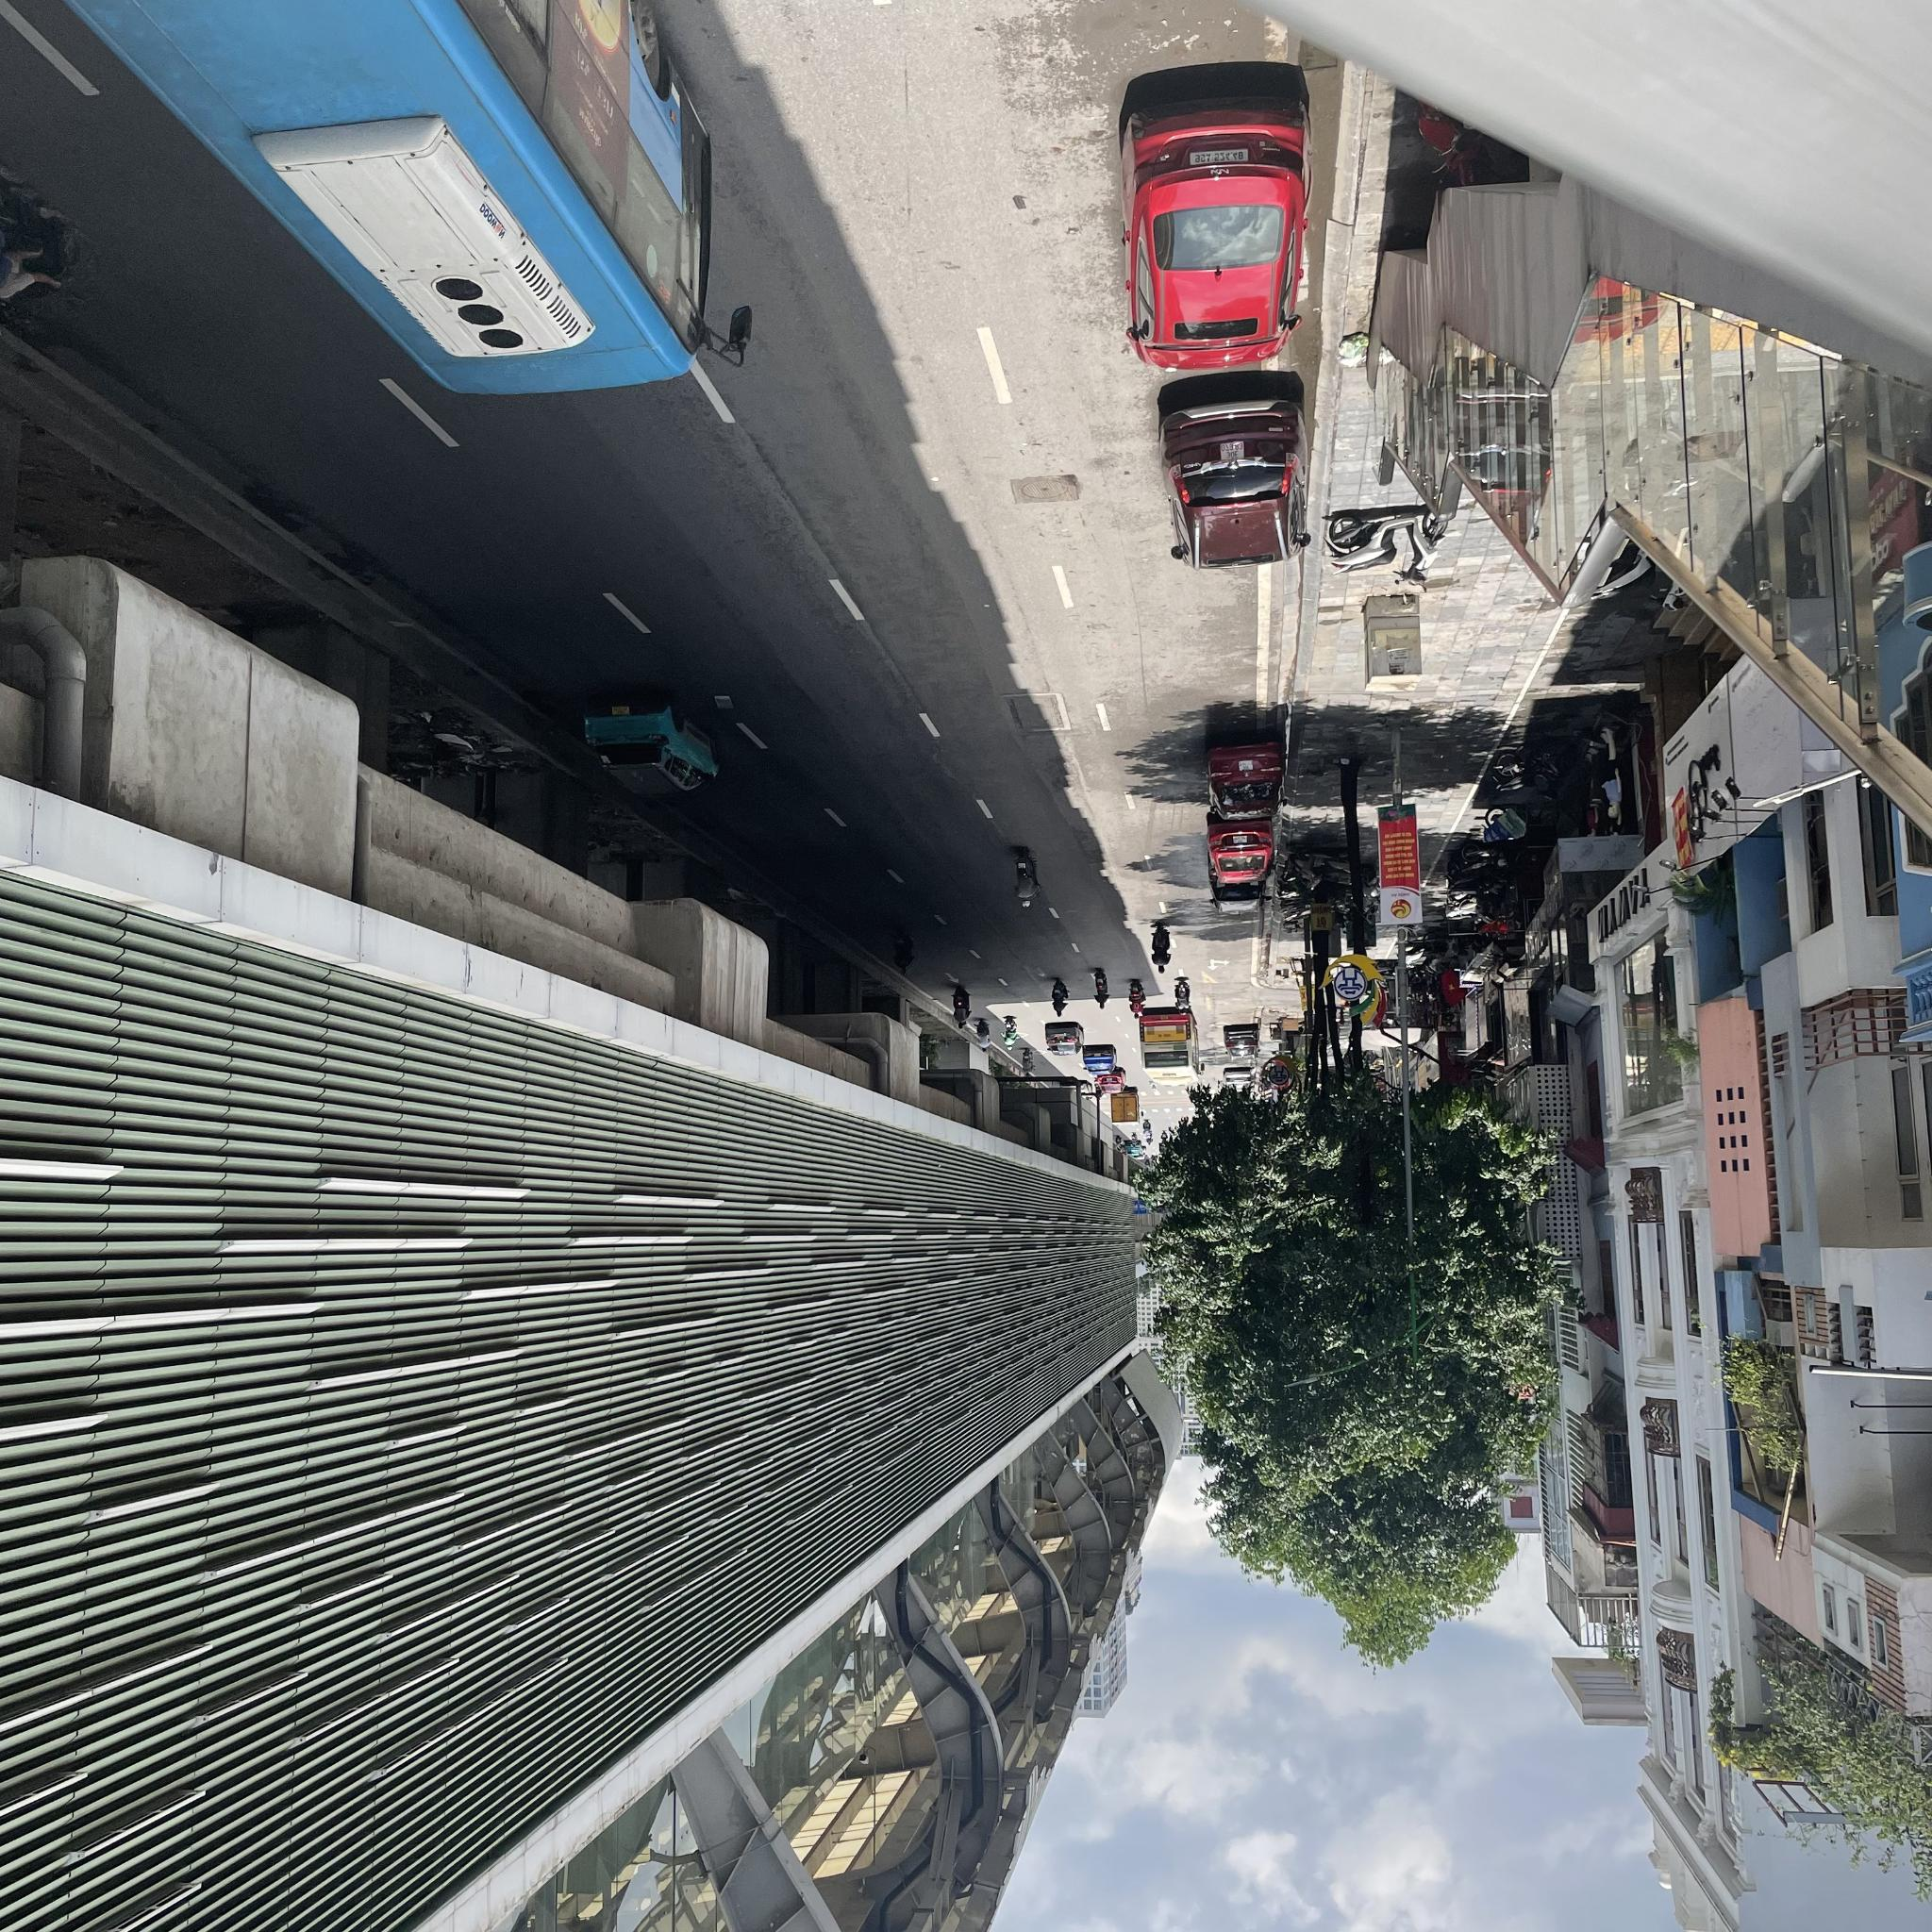car: (1118, 96, 1315, 370), (1157, 389, 1313, 571), (580, 695, 722, 798), (1207, 738, 1288, 821), (1138, 1012, 1203, 1088), (1207, 817, 1274, 885), (1207, 860, 1269, 913), (1224, 1026, 1261, 1062), (1111, 1088, 1145, 1127), (1044, 1024, 1085, 1056), (1083, 1046, 1118, 1076), (1095, 1067, 1127, 1095), (1223, 1067, 1254, 1095)
motobike: (1323, 508, 1451, 591), (1014, 847, 1040, 908), (888, 925, 916, 977), (1152, 920, 1171, 975), (950, 985, 971, 1030), (1051, 978, 1070, 1019), (1093, 970, 1111, 1010), (973, 1019, 993, 1054), (1000, 1017, 1021, 1049), (1127, 982, 1145, 1019), (1173, 980, 1191, 1017), (1021, 1047, 1035, 1076)
